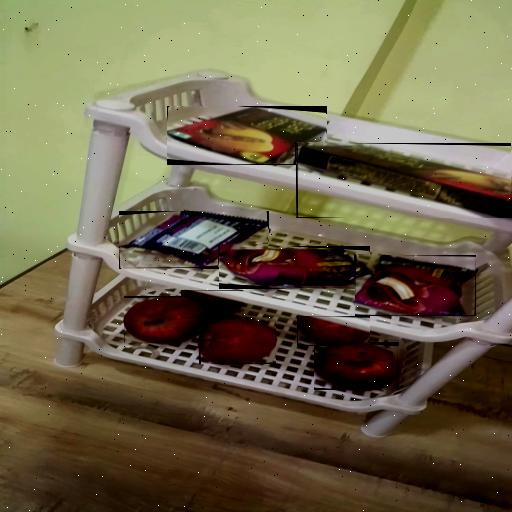Apple: (314, 342, 398, 390), (124, 297, 210, 343), (199, 317, 276, 364), (298, 316, 370, 346), (182, 290, 243, 318)
Choco Fills: (298, 143, 511, 218), (167, 107, 326, 164)
Choco Pie: (120, 211, 268, 268), (355, 255, 476, 316), (219, 248, 369, 287)
